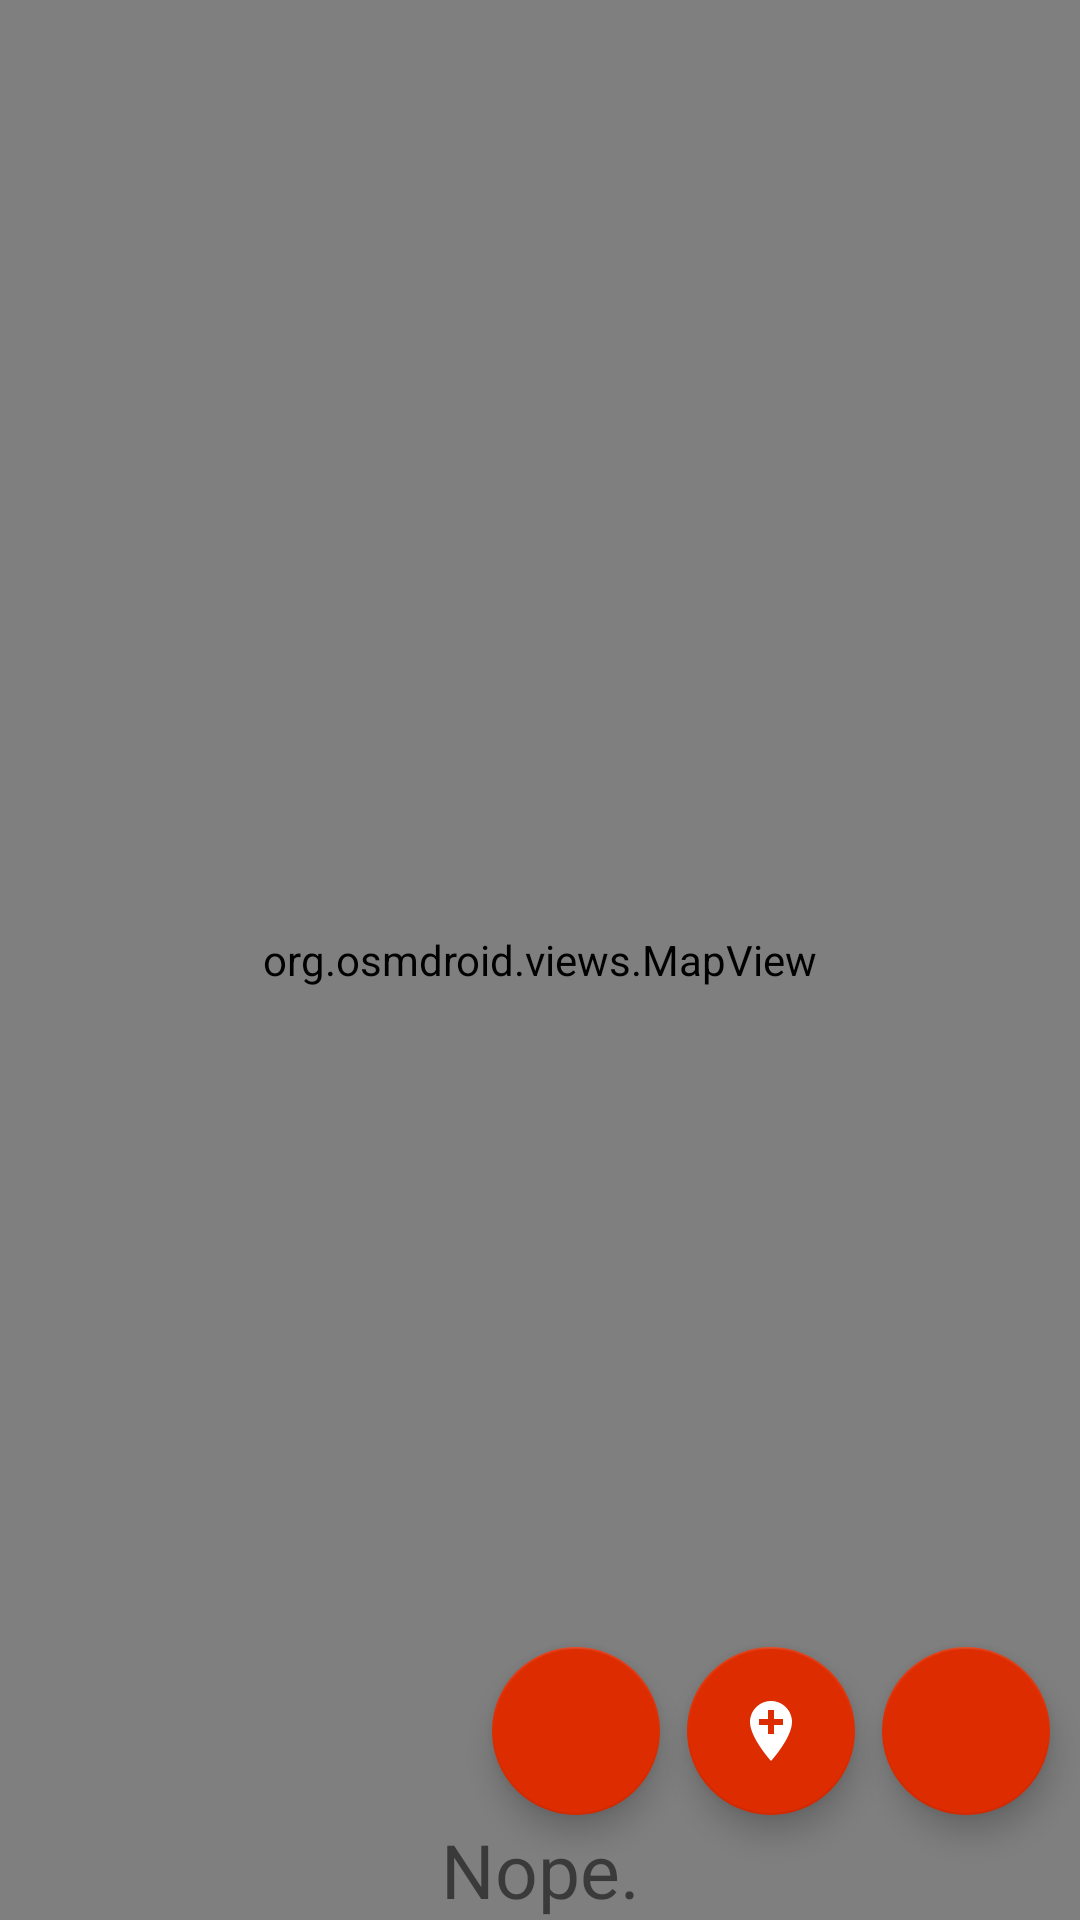

Screen size 1080 x 1920. Icon name, then its box in pixels as (x1, y1, x2, y2):
Add marker: (687, 1647, 855, 1815)
